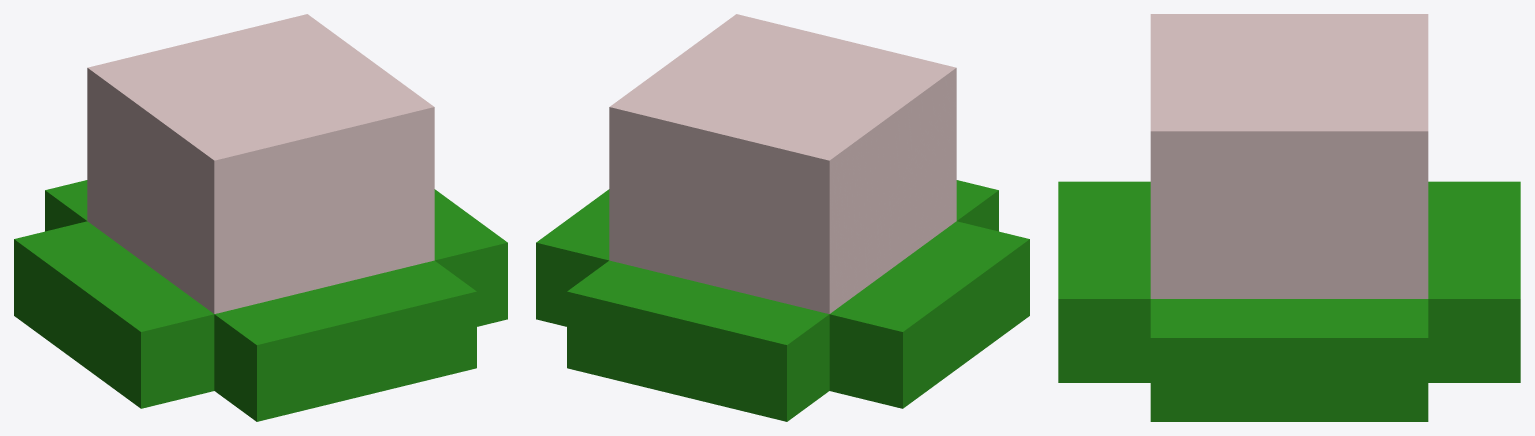
Rendered from SM_Vegetable_3.fbx.
3 views of the same model, side by side, from view 1: azimuth 30°, elevation 25°; view 2: azimuth 150°, elevation 25°; view 3: azimuth 270°, elevation 25° (orthographic). The views are drawn at different scales.
Parts seen in each view (by area): view 1: SM_Vegetable_3; view 2: SM_Vegetable_3; view 3: SM_Vegetable_3.
Part boxes in pixels (x1=…): SM_Vegetable_3: x1=14, y1=14, x2=507, y2=421; SM_Vegetable_3: x1=536, y1=14, x2=1029, y2=421; SM_Vegetable_3: x1=1058, y1=14, x2=1520, y2=421.
Bounding box in the file's own units: 0.5 × 0.3 × 0.5.
1 material, 1 textured.
